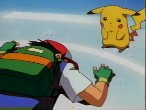pikachu: (86, 4, 146, 54)
